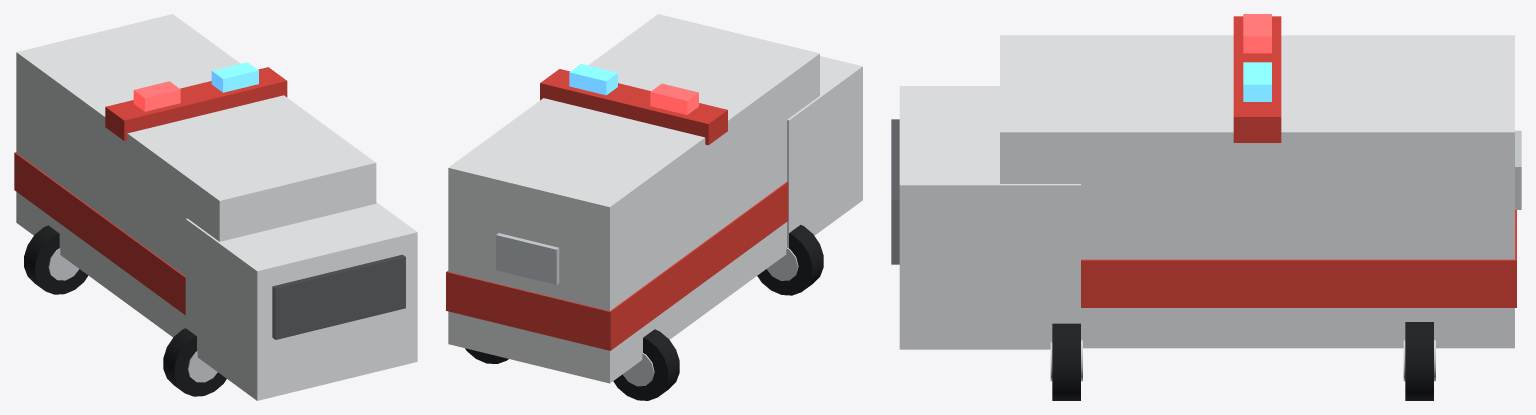
Rendered from ambulance.glb.
3 renders of one model, left to right at view 1: azimuth 30°, elevation 25°; view 2: azimuth 150°, elevation 25°; view 3: azimuth 270°, elevation 25°, orthographic. The views are drawn at different scales.
Parts seen in each view (by area): view 1: ambulance; view 2: ambulance; view 3: ambulance.
Part boxes in pixels (bbox=[...]): ambulance: bbox=[14, 14, 417, 400]; ambulance: bbox=[446, 14, 862, 400]; ambulance: bbox=[891, 14, 1521, 400].
Bounding box in the file's own units: 3.15 × 3.5 × 6.61.
